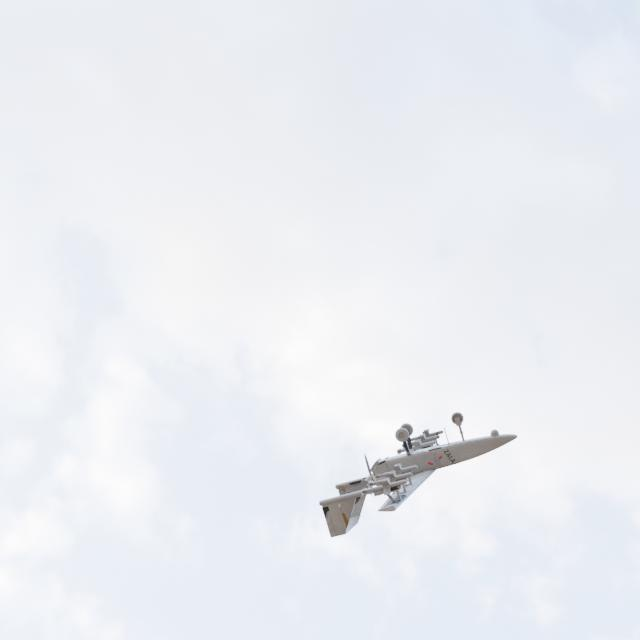Airaplan: (319, 412, 518, 538)
